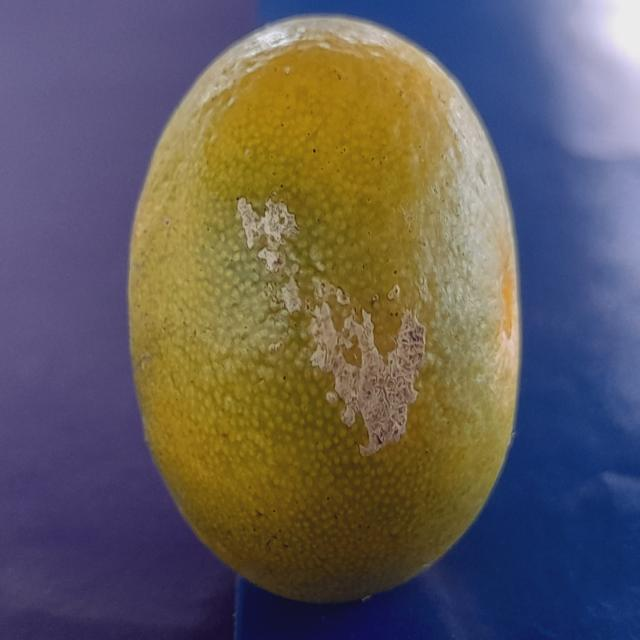thrips: (118, 15, 528, 614)
